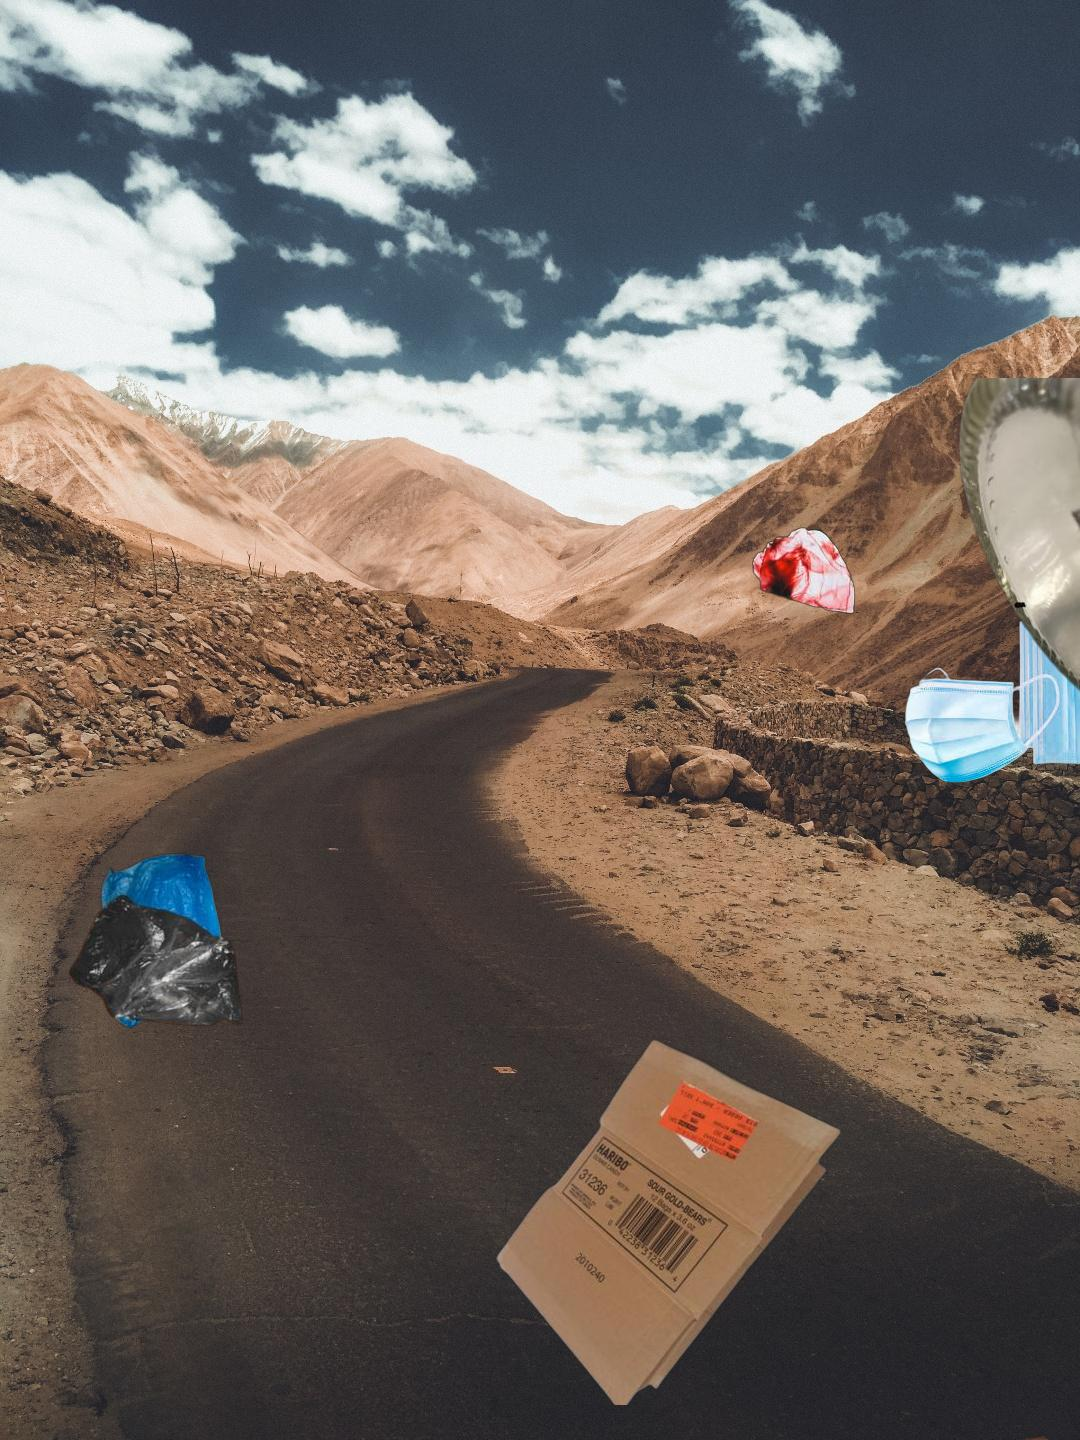glass: (954, 378, 1080, 757)
plastic-bag: (66, 823, 303, 1031), (751, 526, 857, 615)
trash: (902, 618, 1080, 786)
trashbox-cardboard: (491, 1036, 845, 1405)
